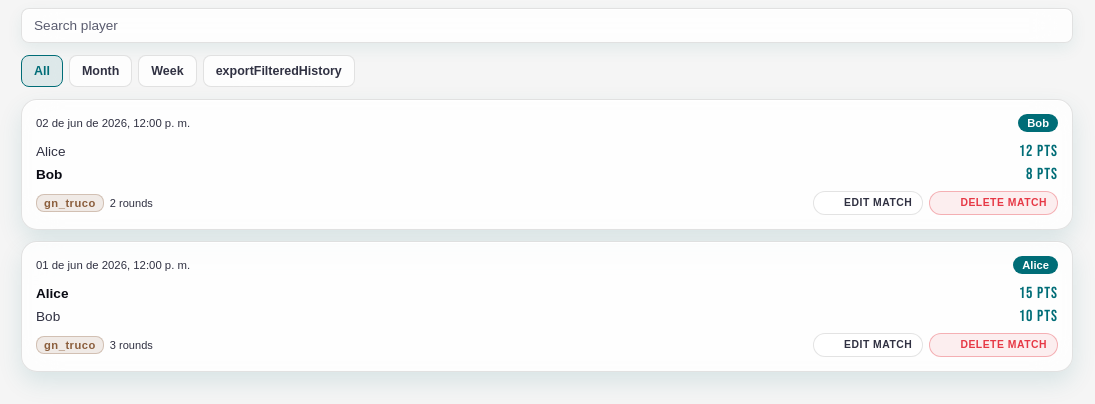
it: GlobalHistoryPage › swipe-to-delete (T5) › shows undo toast when swiped past threshold
Step 1. Press the mouse on the element with test id "match-m1" → (547,306), box [21, 241, 1073, 372]
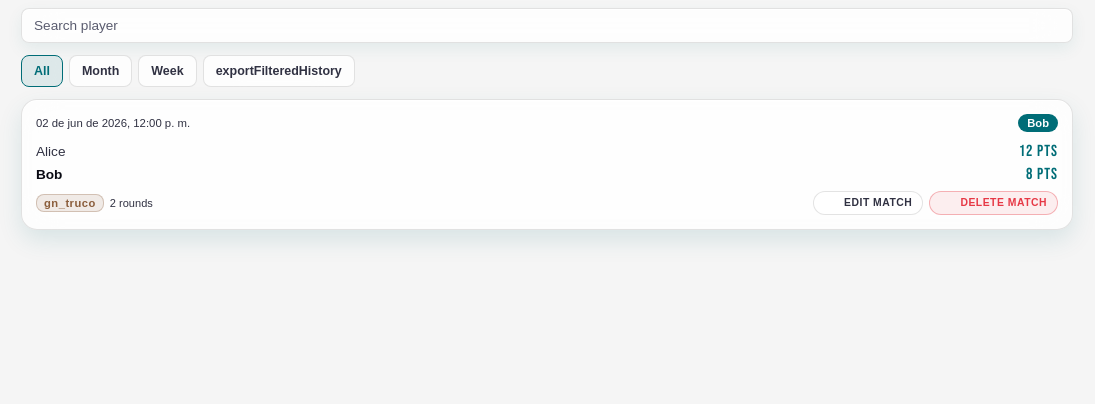
Now the element with test id "match-m1" is gone
